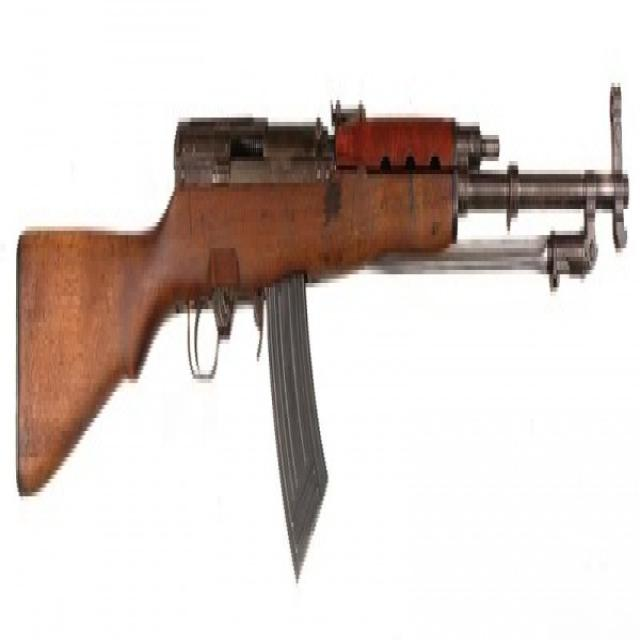rifle: (10, 49, 633, 613)
